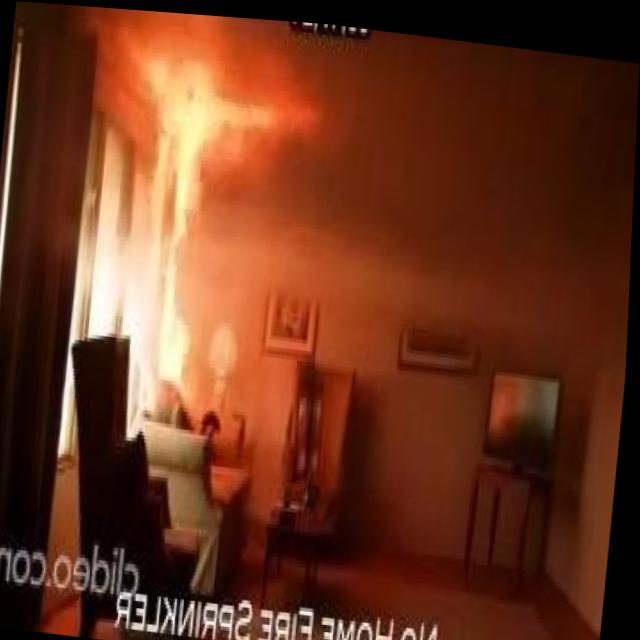fire: (132, 30, 311, 172), (157, 161, 217, 385)
